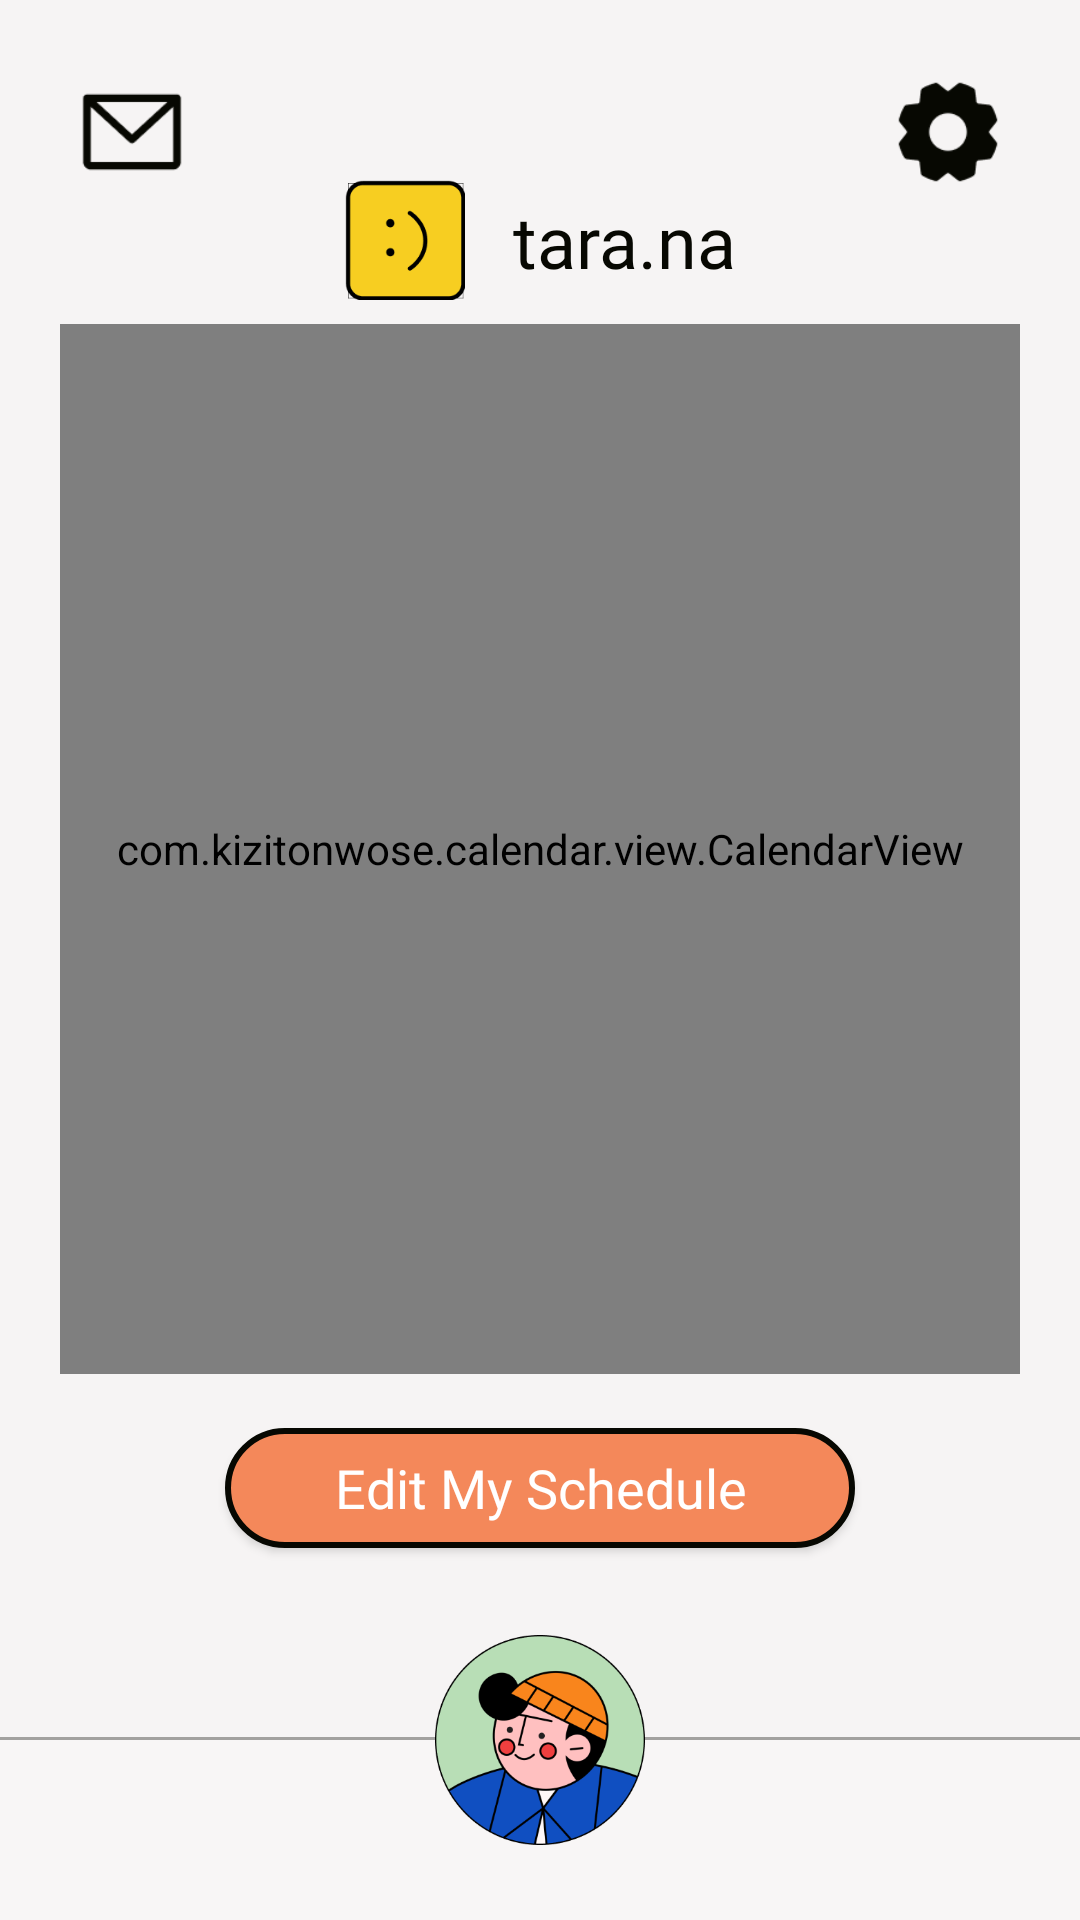

Named icons in this screenshot (1080 x 1920) and their bounding boxes, (x1, y1, x2, y2):
inbox: (82, 93, 182, 171)
profile: (435, 1635, 645, 1845)
settings: (898, 82, 998, 182)
